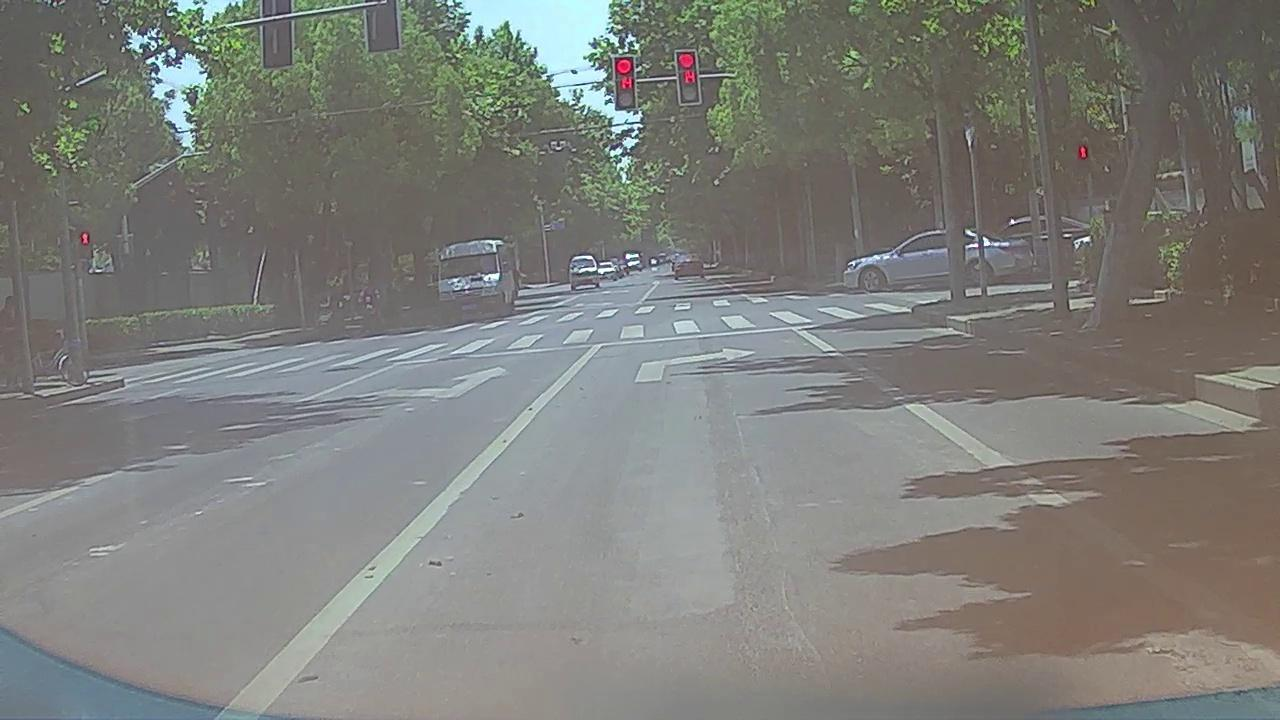traffic_light: (676, 50, 700, 103), (615, 55, 637, 109)
